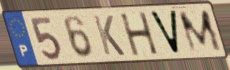5: (28, 15, 64, 62)
6: (63, 15, 93, 60)
H: (118, 11, 161, 58)
K: (91, 14, 127, 57)
M: (176, 9, 225, 55)
V: (147, 9, 182, 57)
